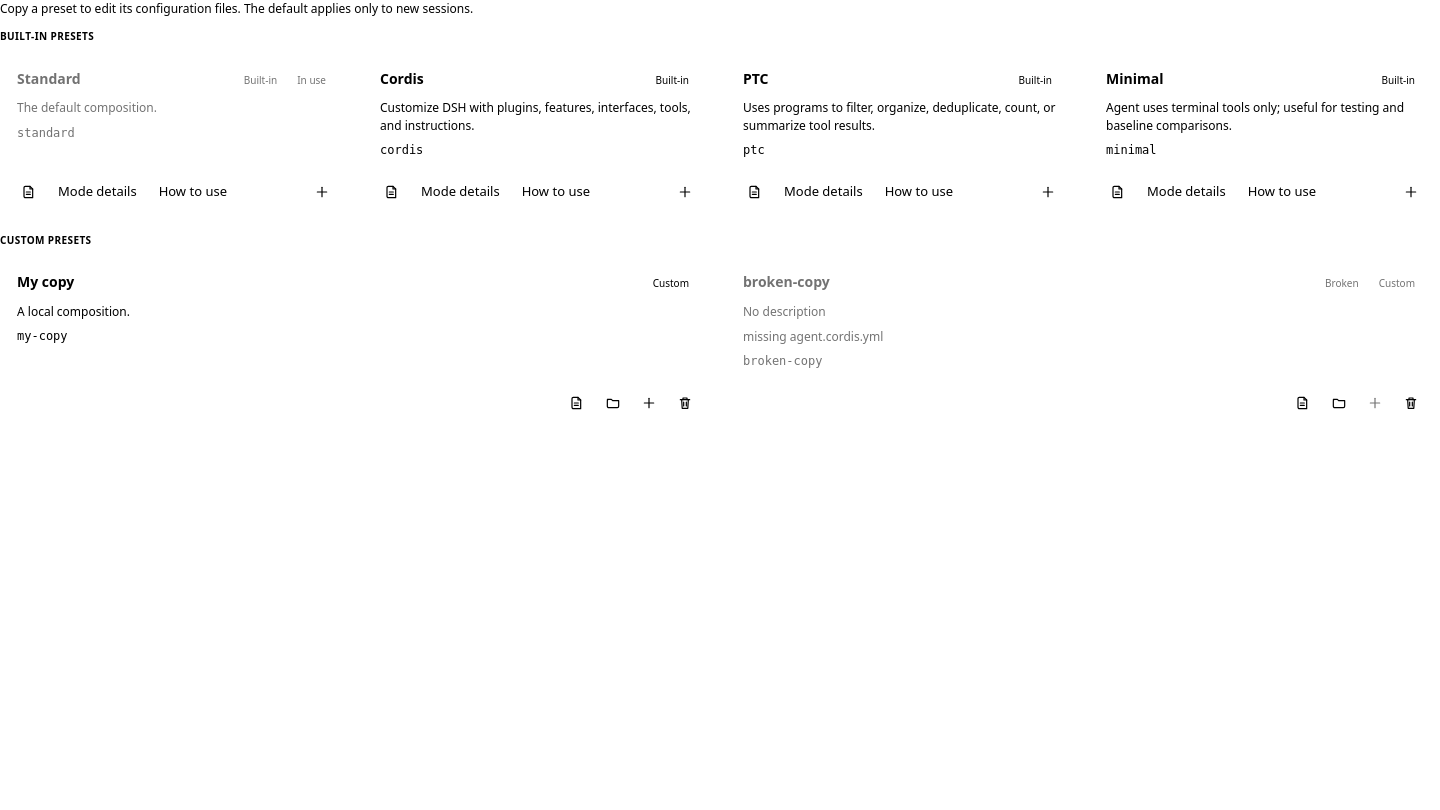
PresetManager removal › keeps the confirmation open and reports a failed removal
The image size is (1440, 810).
Expected: the heading "Custom presets" is shown, [0,233,92,247]
Click the button named "Delete preset: My copy" at [685, 403], box [669,387,701,419]
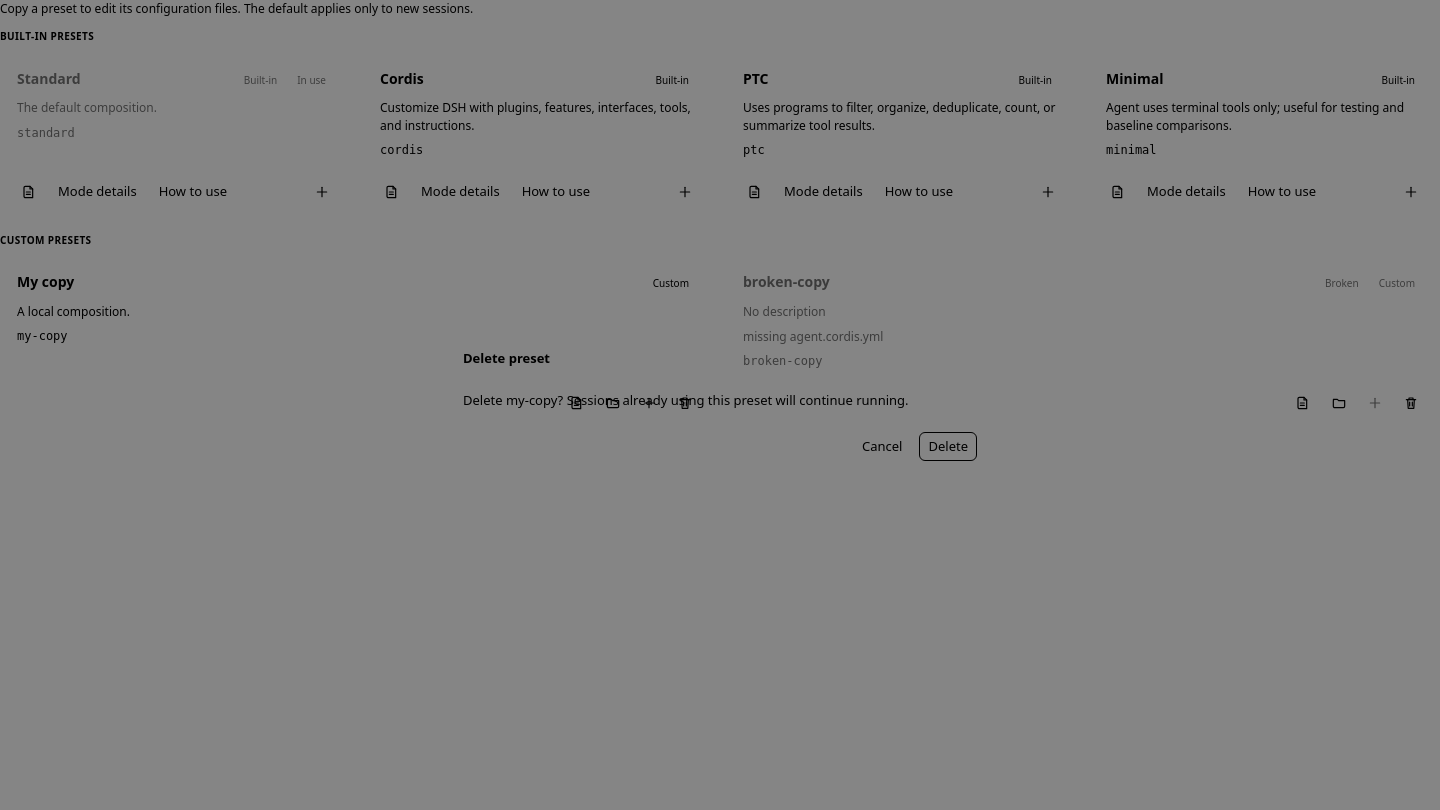
Click the button "Delete" at [948, 447], box [920,432,977,461]
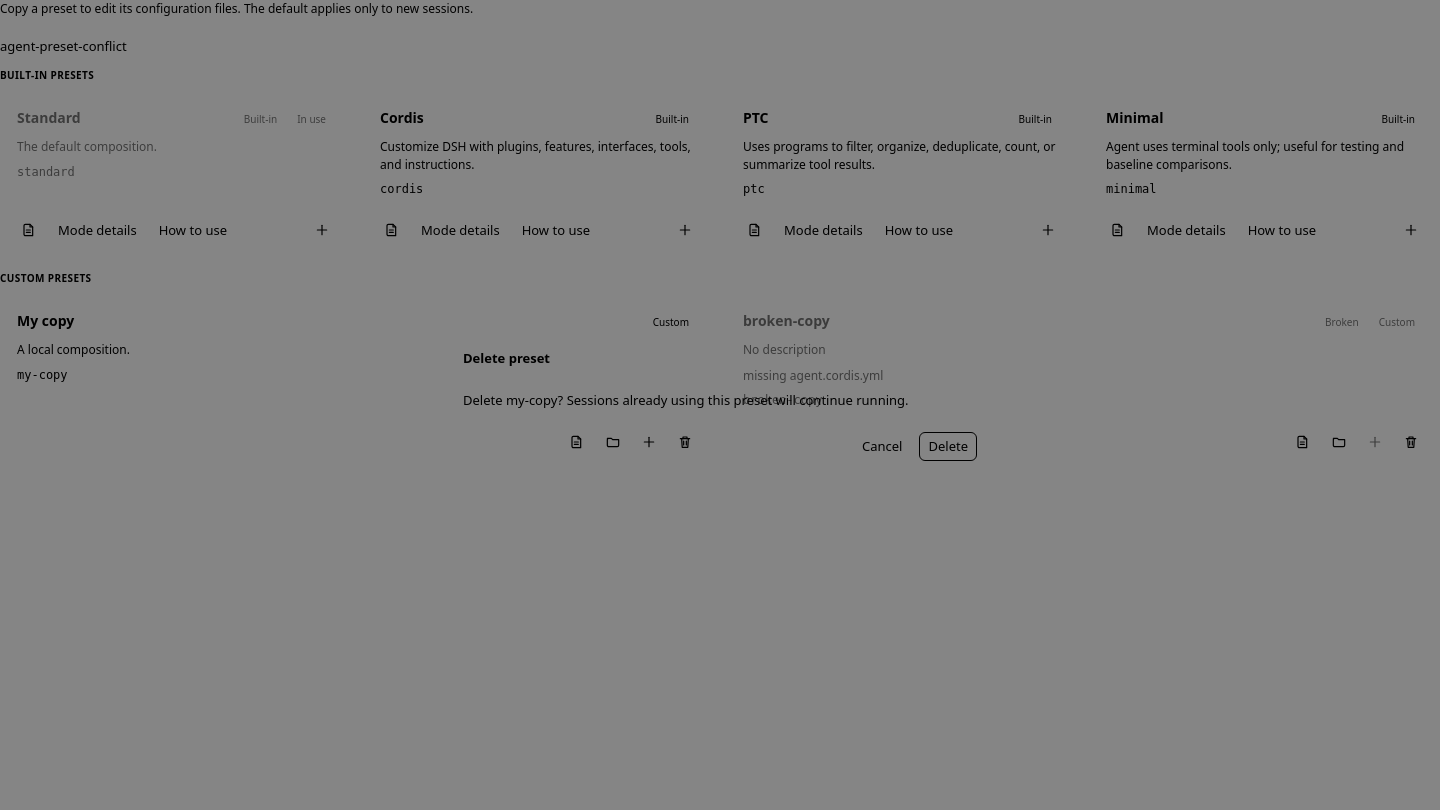
Expected: the dialog "Delete preset" is shown, [450,336,990,474]
Expected: the text "agent-preset-conflict" is shown, [0,37,127,55]
